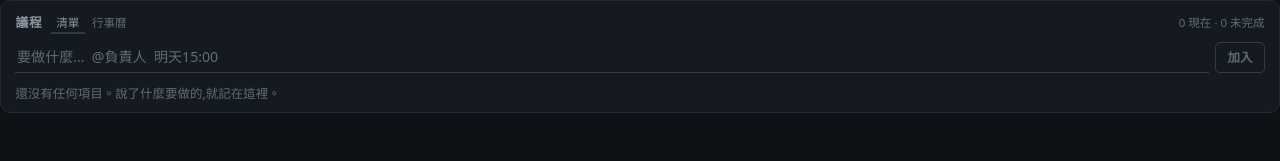
Test: @ mentions › narrows as the name is typed
The width and height of the screenshot is (1280, 161).
Type "@al" into the dropdown named "新增項目" at (612, 57), box [15, 42, 1209, 73]
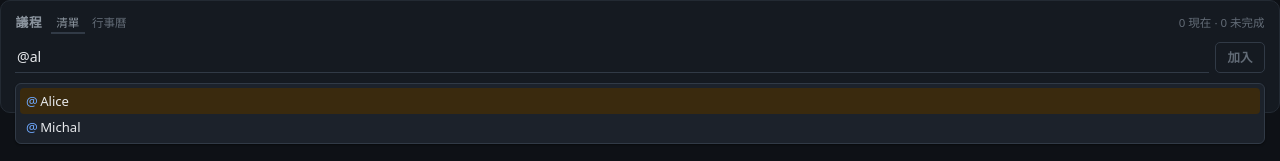
Check: the options read "@Alice", "@Michal", in this order, box [20, 88, 1260, 114]; [26, 118, 81, 136]
